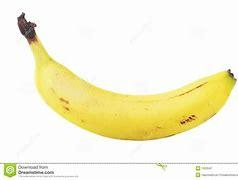banana: (19, 24, 238, 143)
